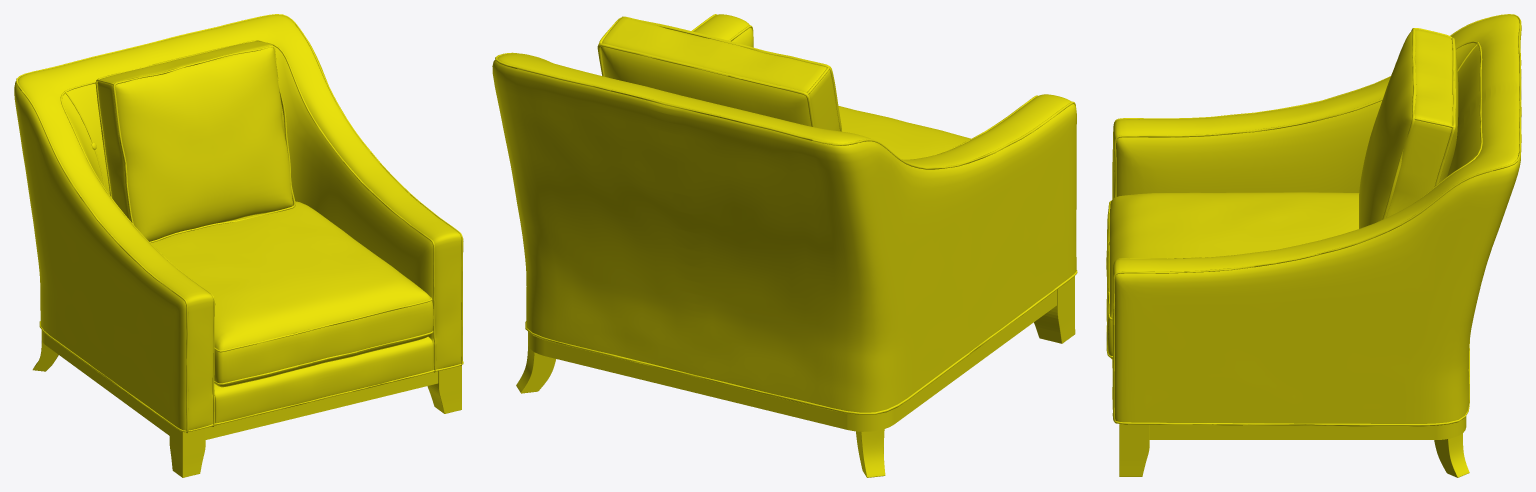
The model's file is SofaSet_Gen_2_Armchair.fbx.
The picture shows the model from 3 angles, left to right: view 1: azimuth 30°, elevation 25°; view 2: azimuth 150°, elevation 25°; view 3: azimuth 270°, elevation 25°; orthographic projection. The views are drawn at different scales.
Visible parts, largest first — view 1: polySurface81; view 2: polySurface81; view 3: polySurface81.
Part boxes in pixels (box(x1,y1,x2,y2)): polySurface81: box(14, 14, 463, 477); polySurface81: box(492, 14, 1077, 477); polySurface81: box(1106, 14, 1521, 477).
Size of the model in its own units: 92.12 by 88.67 by 102.
